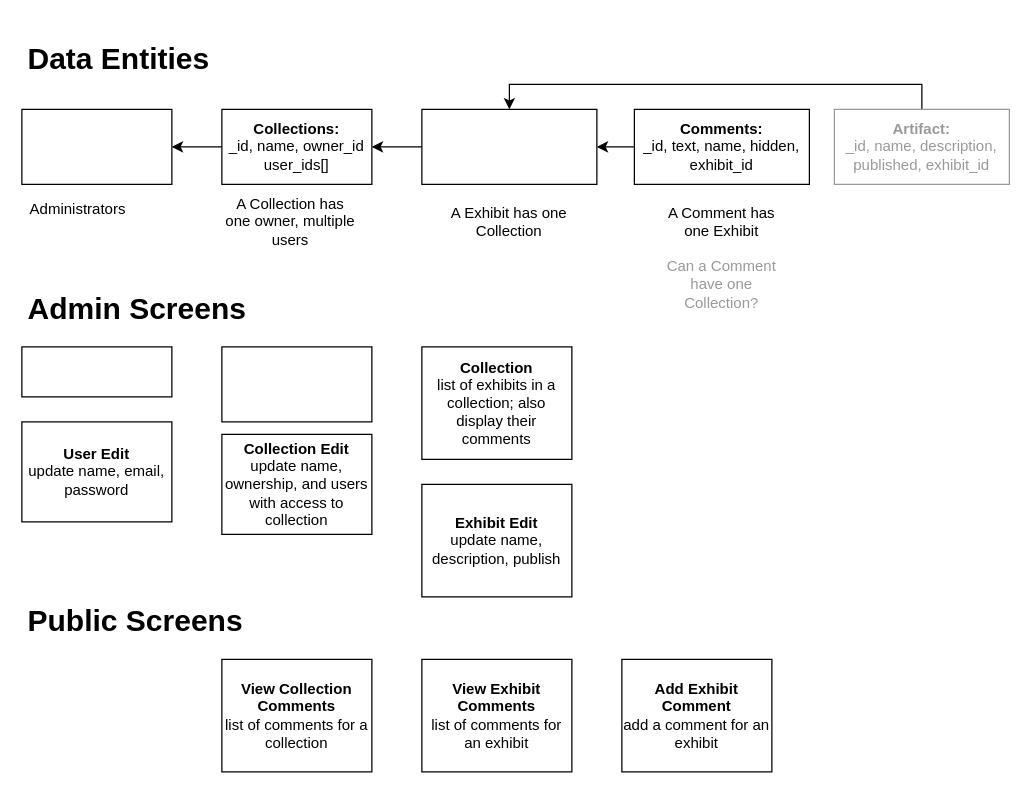
Image size: 1031x794. Some labels were removed from this diagram. The shapes that lost their labels are listed below. From the top down, each one's centre as x and y in pixels, then its label:
At (x=96, y=146): "Users: _id, name, email, password".
At (x=509, y=146): "Exhibits: _id, name, description, published, collection_id".
At (x=96, y=371): "User SignIn, Create".
At (x=296, y=384): "Collections list of collections a user has access to".
